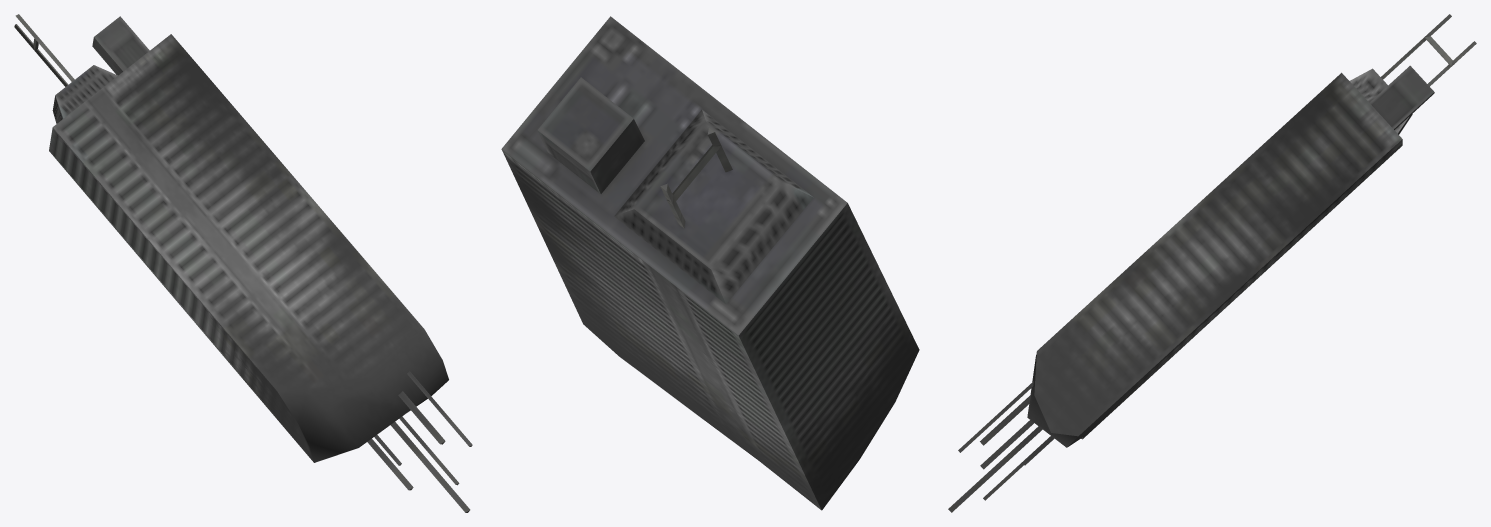
File: skyBuildingAAC_pos_grp (16).fbx
3 views of the same model, side by side, from view 1: azimuth 30°, elevation 25°; view 2: azimuth 150°, elevation 25°; view 3: azimuth 270°, elevation 25° (orthographic). The views are drawn at different scales.
Parts seen in each view (by area): view 1: skyBuildingAAC_geo; view 2: skyBuildingAAC_geo; view 3: skyBuildingAAC_geo.
Boxes of the visible parts, <box> form: skyBuildingAAC_geo: <box>14,14,472,512</box>; skyBuildingAAC_geo: <box>501,16,919,510</box>; skyBuildingAAC_geo: <box>948,14,1476,512</box>.
Size of the model in its own units: 7.04 by 9.77 by 11.96.
